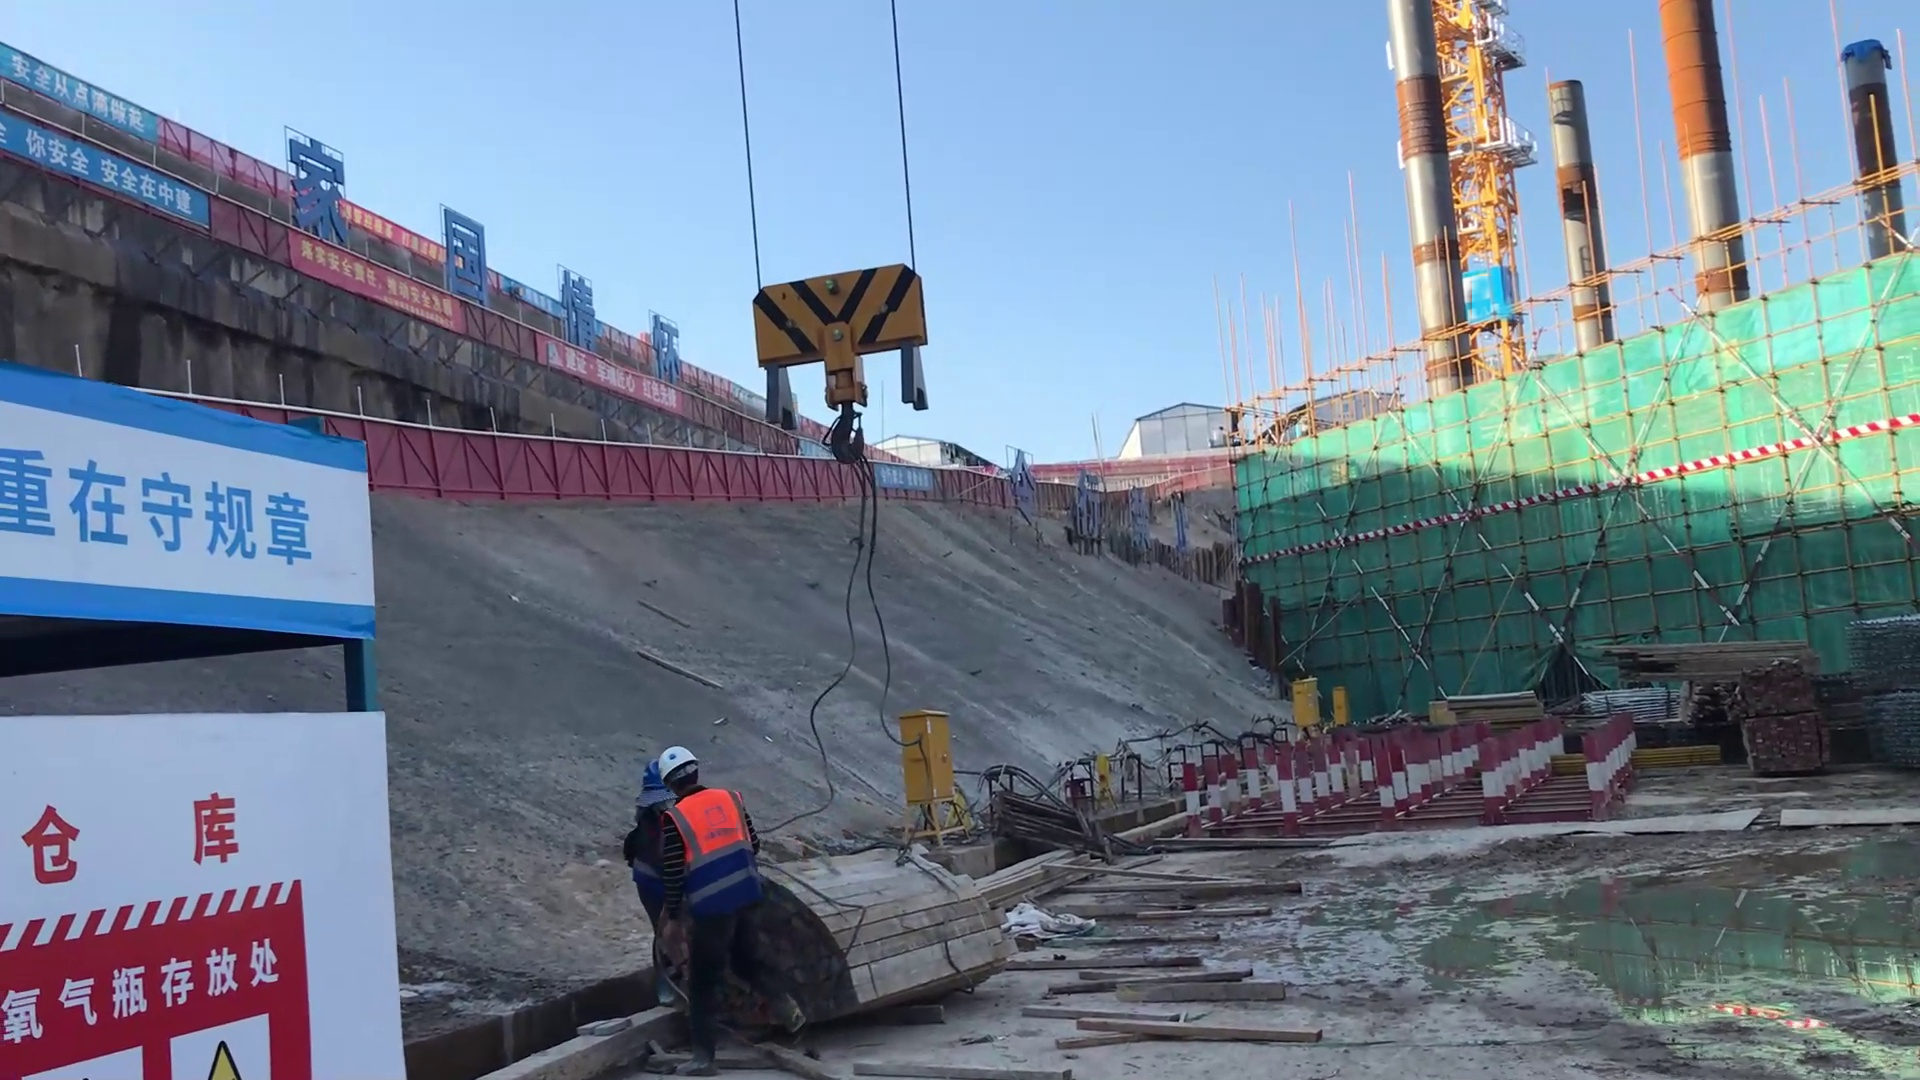ebox: (882, 686, 980, 818), (1288, 682, 1320, 730), (1326, 686, 1354, 719)
fence: (359, 423, 728, 504)
helmet: (656, 740, 699, 792)
hook: (739, 264, 932, 422)
person: (658, 742, 797, 1062), (625, 759, 684, 936)
slogan: (1, 366, 355, 616), (1, 136, 207, 256), (275, 250, 485, 359), (1, 65, 136, 139)
vest: (674, 792, 755, 870)
wood: (1056, 835, 1303, 1080), (797, 853, 1010, 1031), (1593, 634, 1828, 681)
